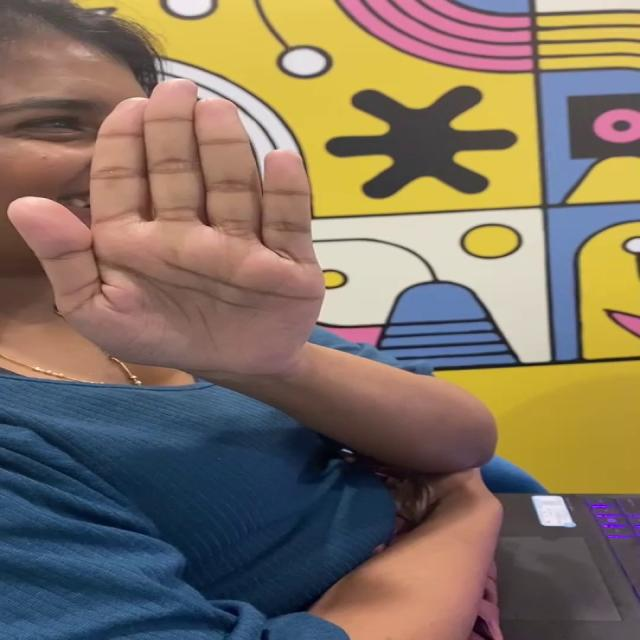no-gloves: (7, 75, 348, 389)
